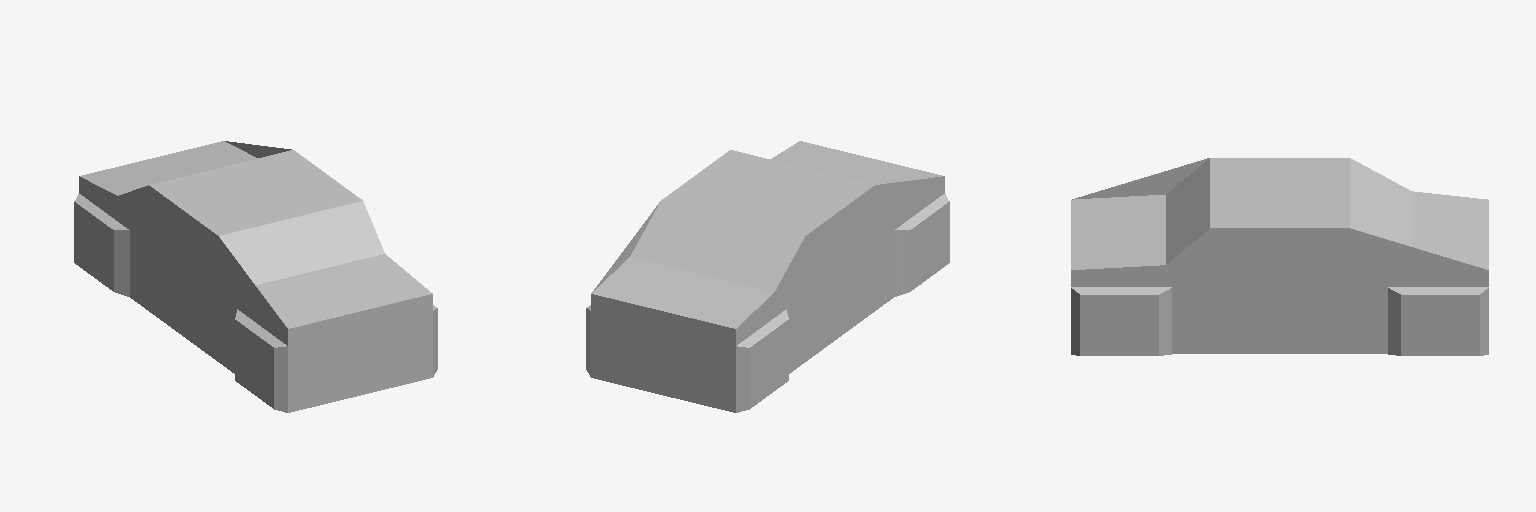
The model's file is standardcar.obj.
3 views of the same model, side by side, from view 1: azimuth 30°, elevation 25°; view 2: azimuth 150°, elevation 25°; view 3: azimuth 270°, elevation 25° (orthographic).
Visible parts, largest first — view 1: thecar_Cube.025; view 2: thecar_Cube.025; view 3: thecar_Cube.025.
Part boxes in pixels (x1,y1,x2,y2): thecar_Cube.025: (74, 141, 437, 412); thecar_Cube.025: (586, 141, 949, 412); thecar_Cube.025: (1071, 158, 1488, 355).
Bounding box in the file's own units: 1.95 × 1.44 × 4.31.